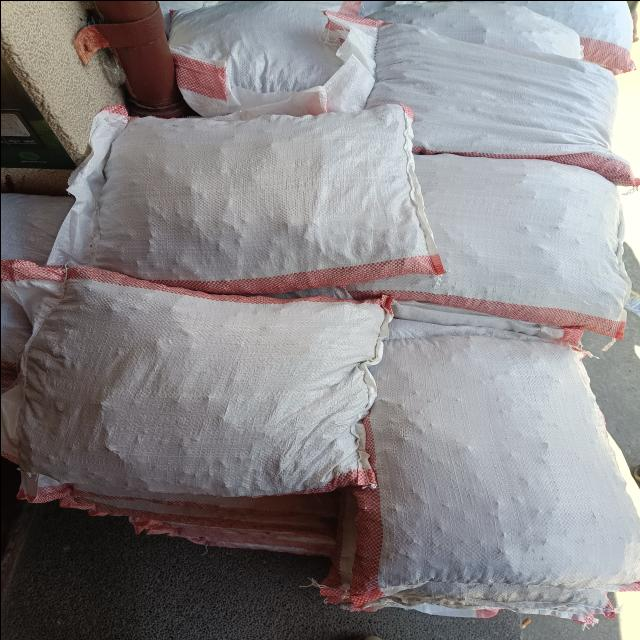Gravel: (1, 272, 357, 483), (346, 337, 608, 596), (66, 109, 416, 295), (361, 162, 621, 303), (387, 37, 623, 155), (175, 10, 380, 111)
